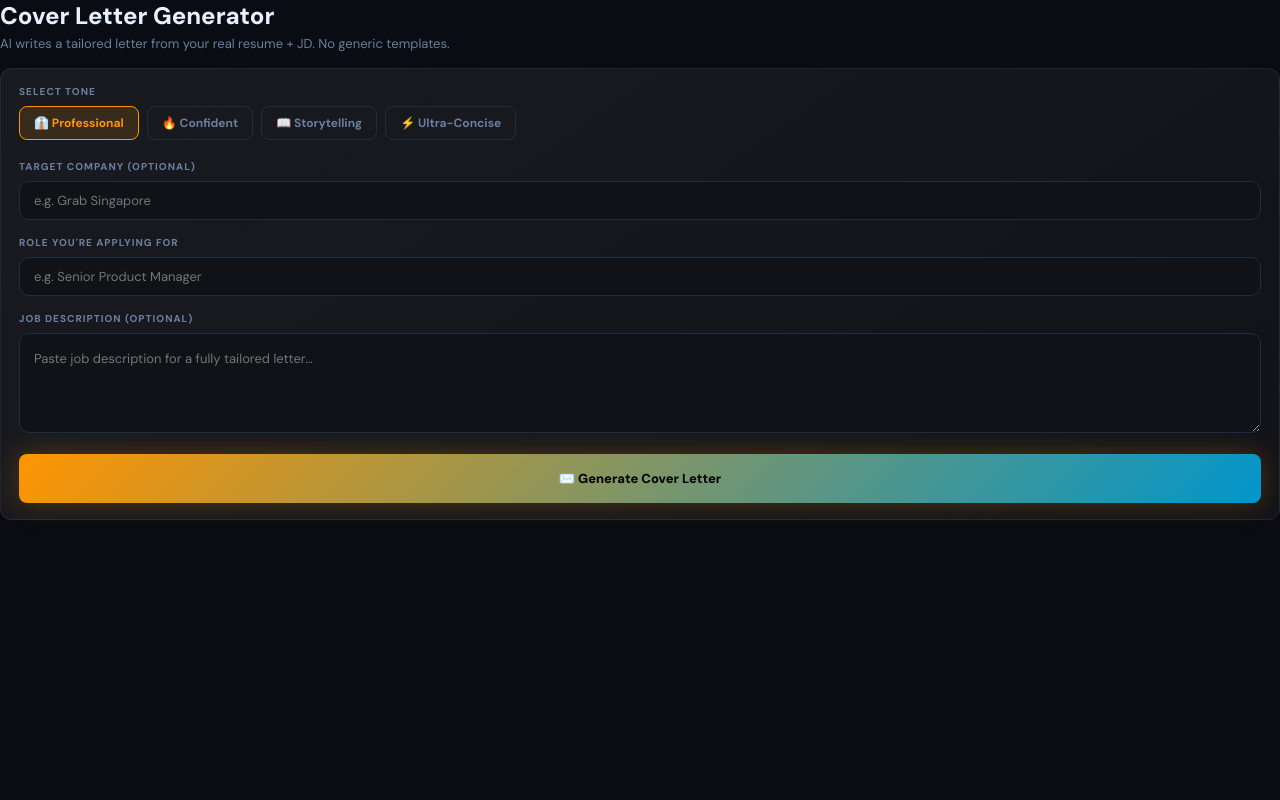
Scenario: CoverLetterGen › copies the subject and reports a copy failure
This screenshot has width=1280, height=800.
Type "PM" into the field named "Role".
click(640, 276); type("PM")  # box [19, 257, 1261, 296]
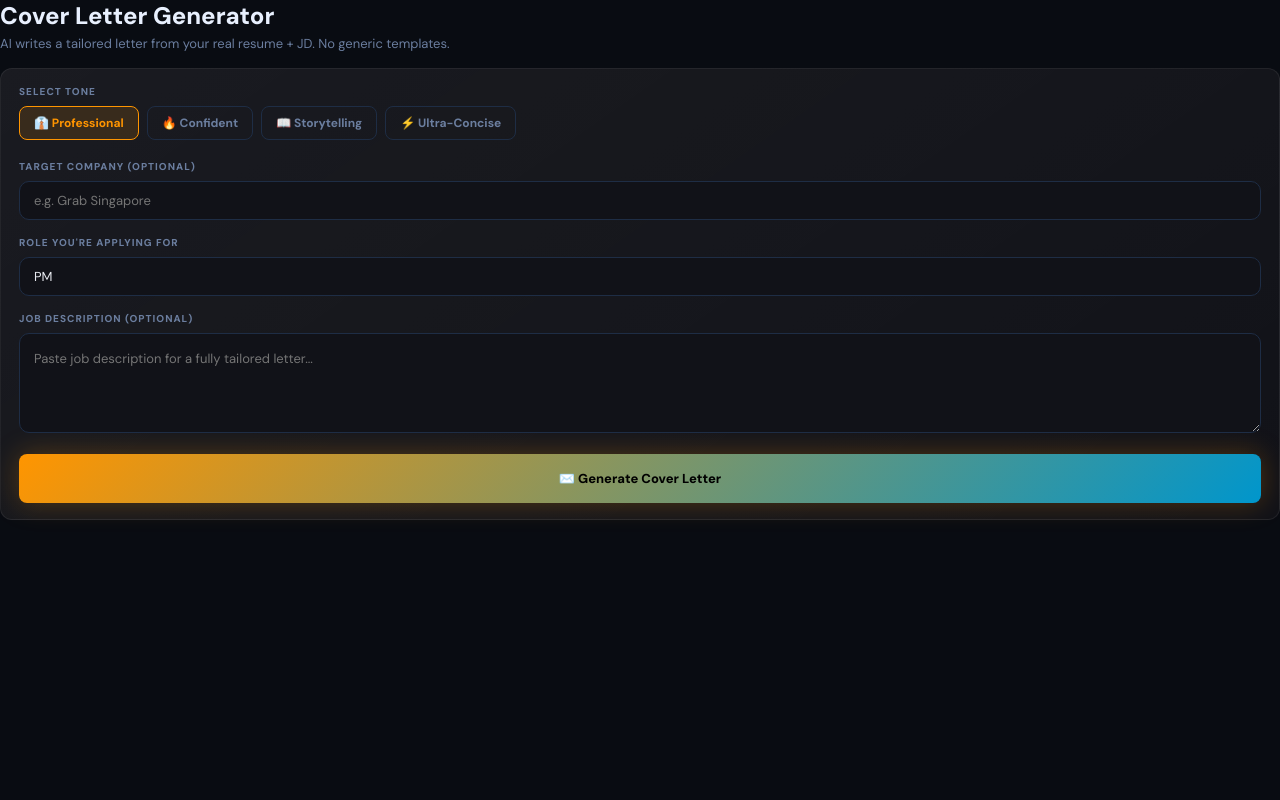
Click the button "✉️ Generate Cover Letter".
click(640, 478)  # box [19, 454, 1261, 503]
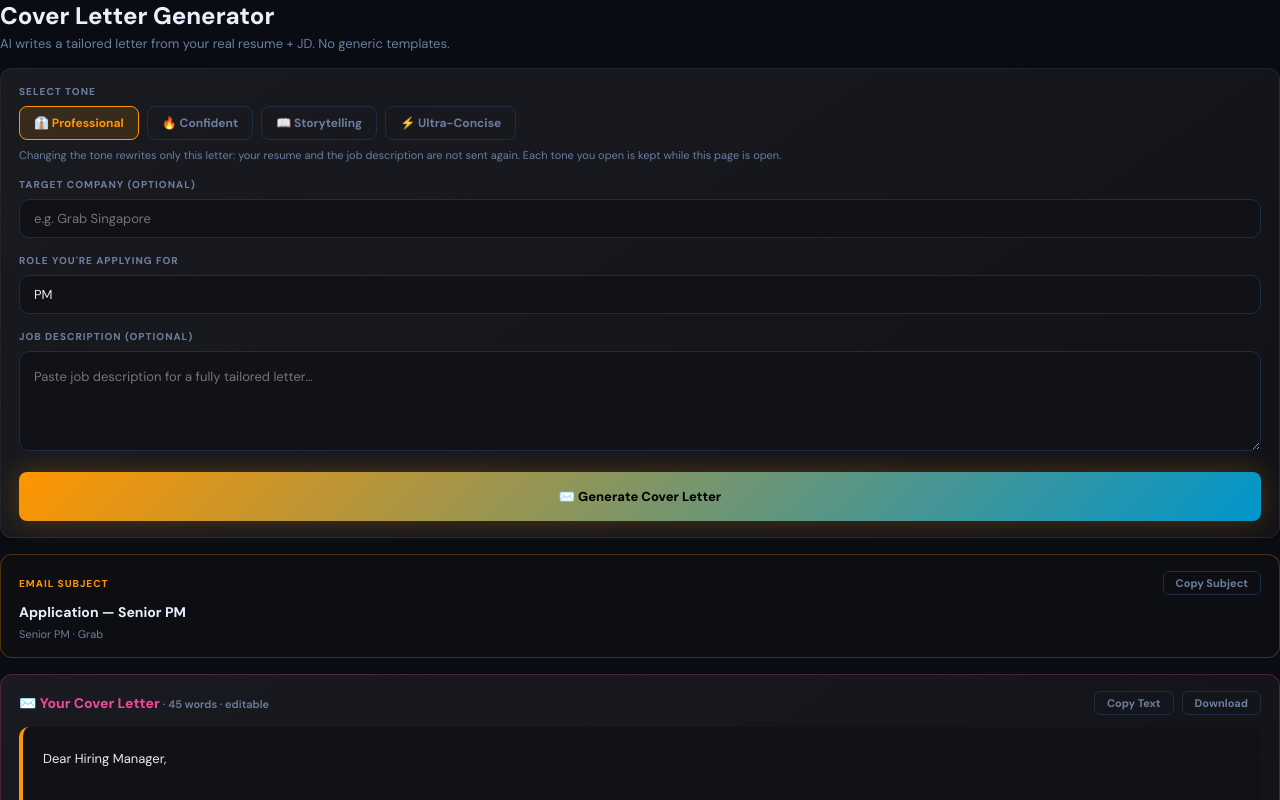
Check: the text "Application — Senior PM" is shown, box [19, 603, 186, 621]
Click the button "Copy Subject".
click(1212, 583)  # box [1163, 571, 1261, 595]
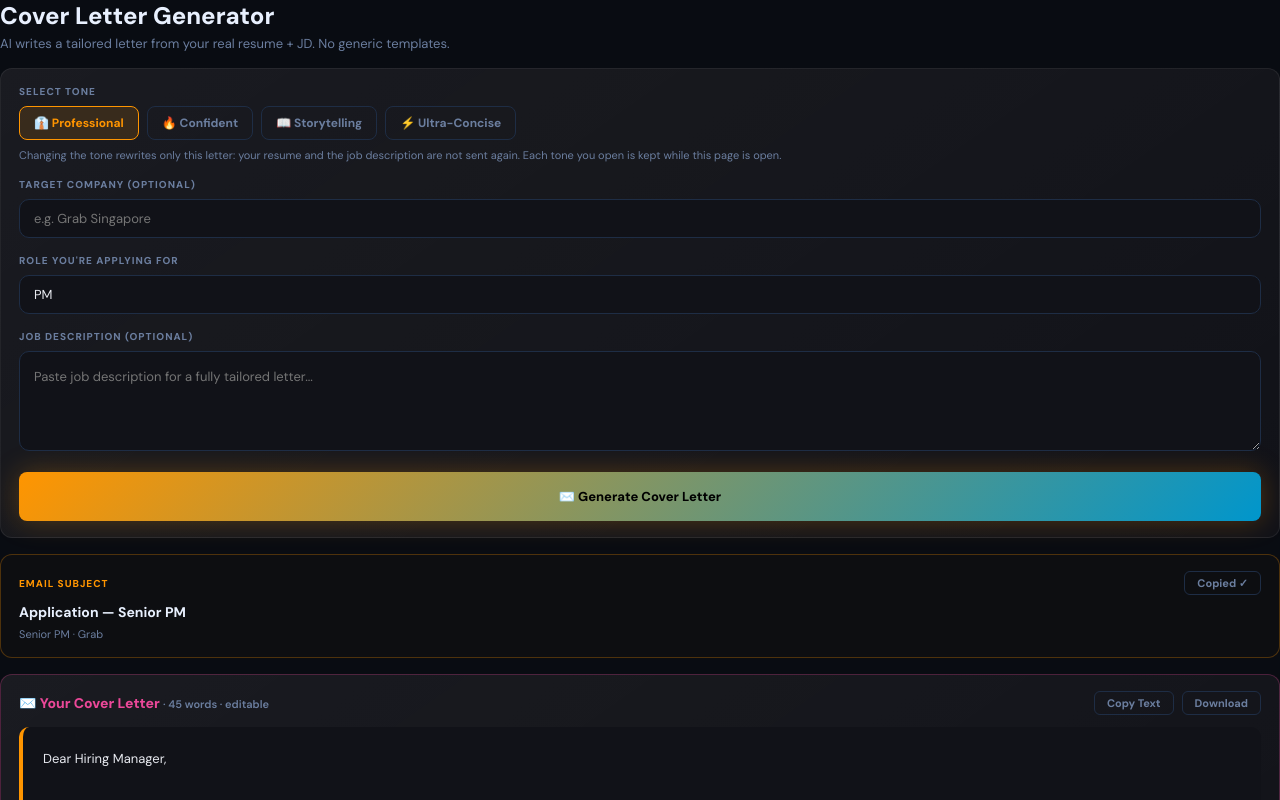
Check: the button "Copied ✓" is shown, box [1184, 571, 1261, 595]
Click the button "Copy Text".
click(1134, 703)  # box [1094, 691, 1174, 715]
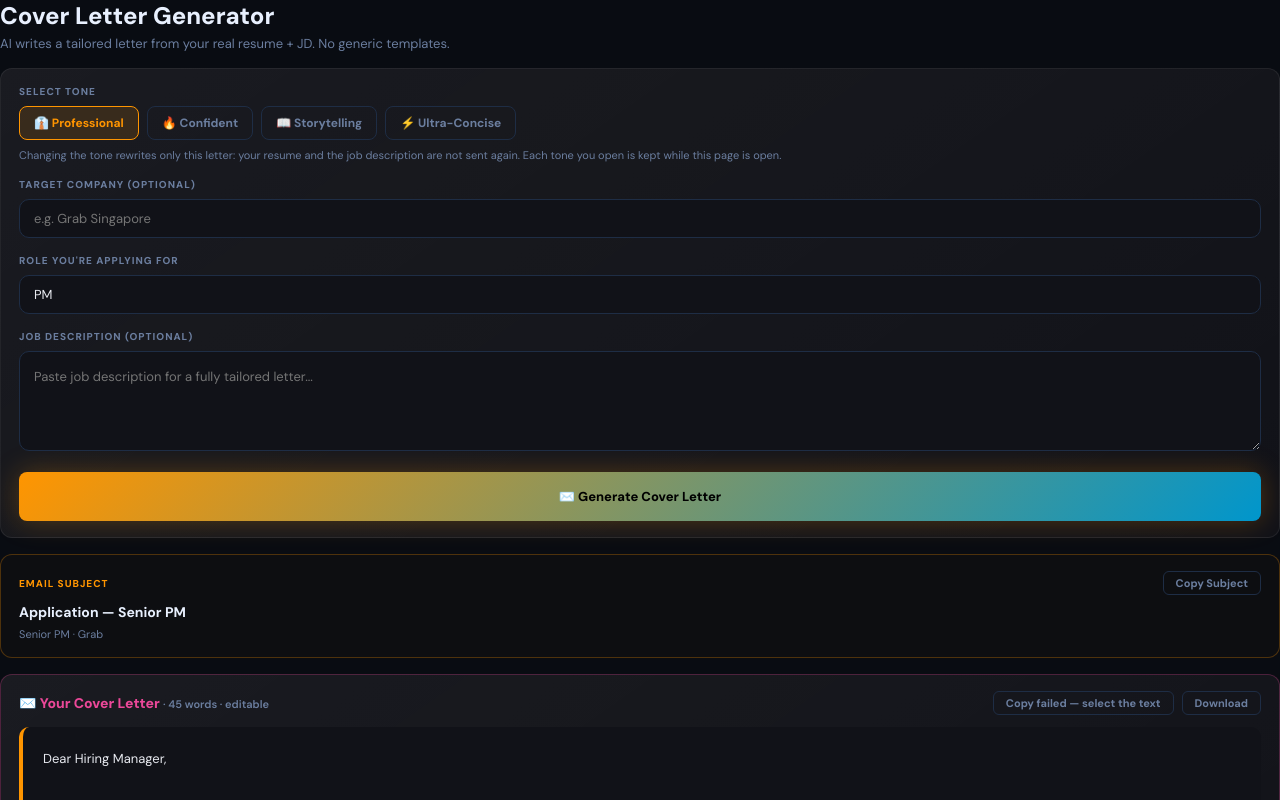
Check: the button "Copy failed — select the text" is shown, box [993, 691, 1174, 715]
